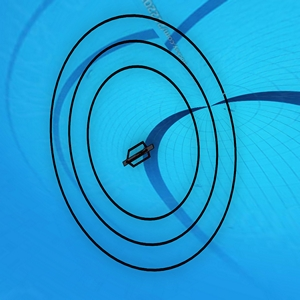circle: (45, 11, 233, 288)
submarine: (124, 143, 154, 167)
